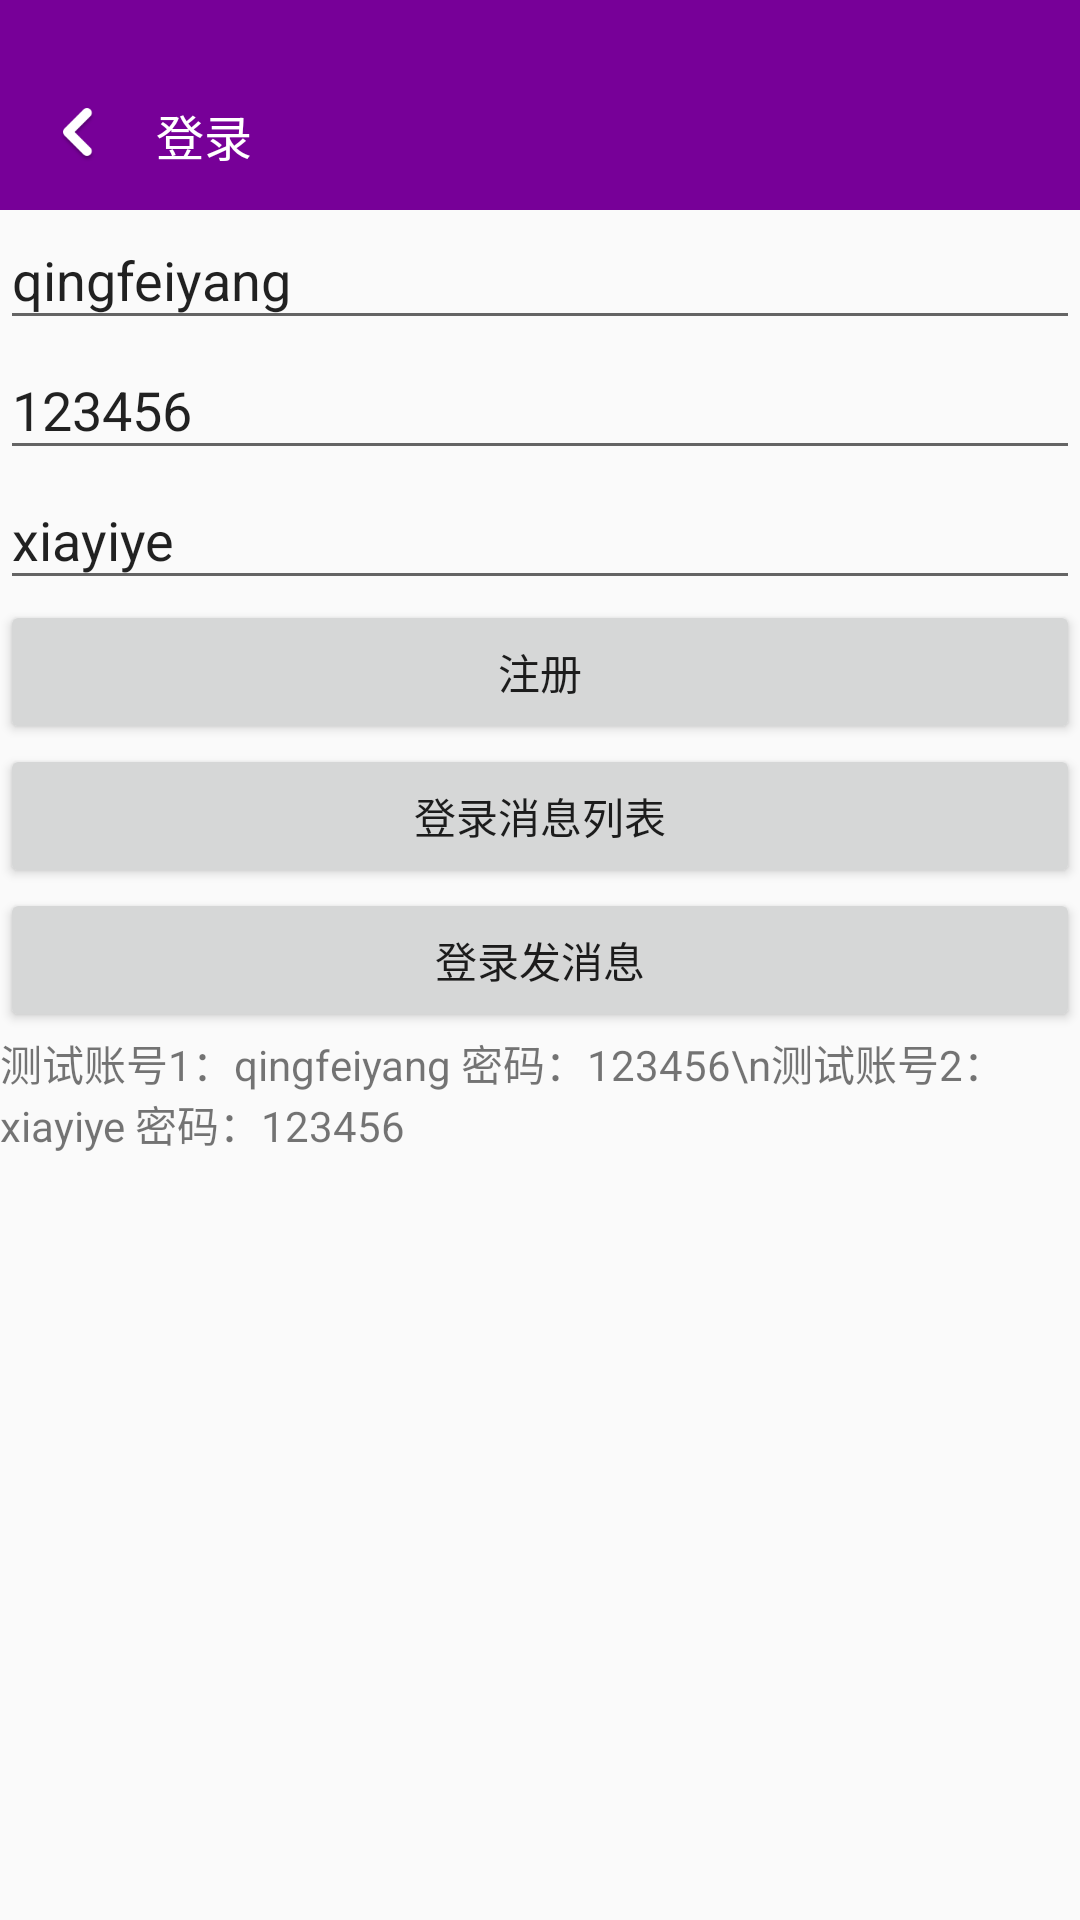

Icons on this 1080×1920 Android screen, each with the point to tap as point (x, y):
back: point (77, 133)
